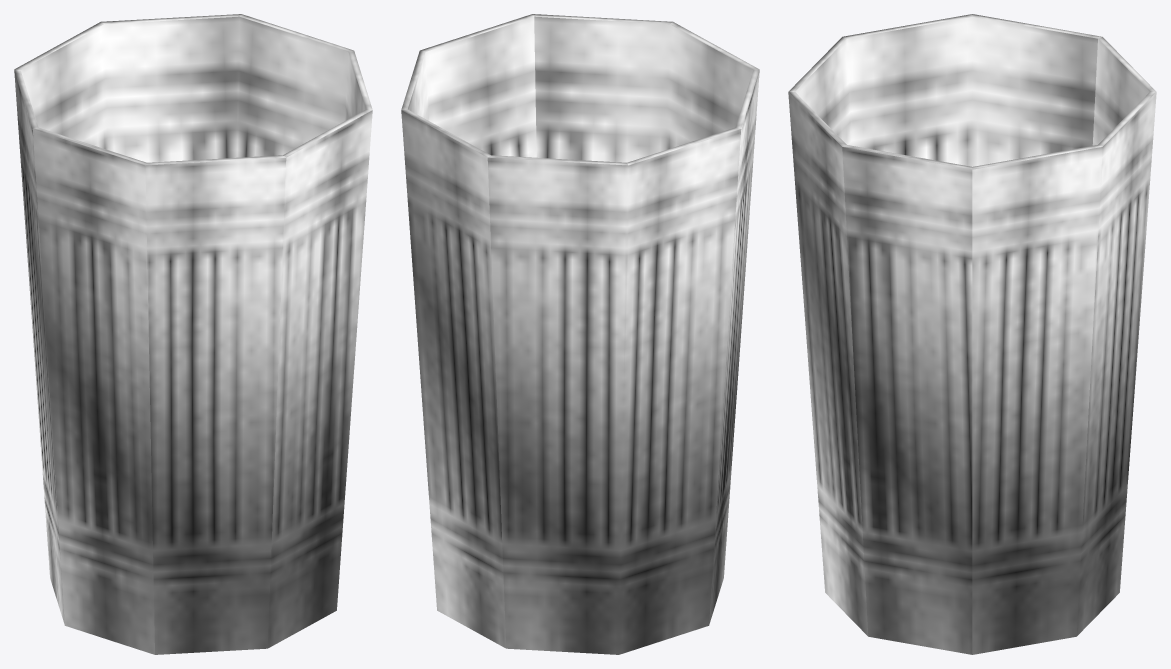
The model's file is trashcan.glb.
3 views of the same model, side by side, from view 1: azimuth 30°, elevation 25°; view 2: azimuth 150°, elevation 25°; view 3: azimuth 270°, elevation 25° (orthographic).
Parts seen in each view (by area): view 1: TrashCan; view 2: TrashCan; view 3: TrashCan.
Boxes of the visible parts, left/top/right/bottom form: TrashCan: left=14, top=14, right=372, bottom=654; TrashCan: left=401, top=14, right=759, bottom=654; TrashCan: left=788, top=14, right=1156, bottom=654.
Size of the model in its own units: 0.6 by 0.9 by 0.6.
Materials: 1 (1 with a texture image).
